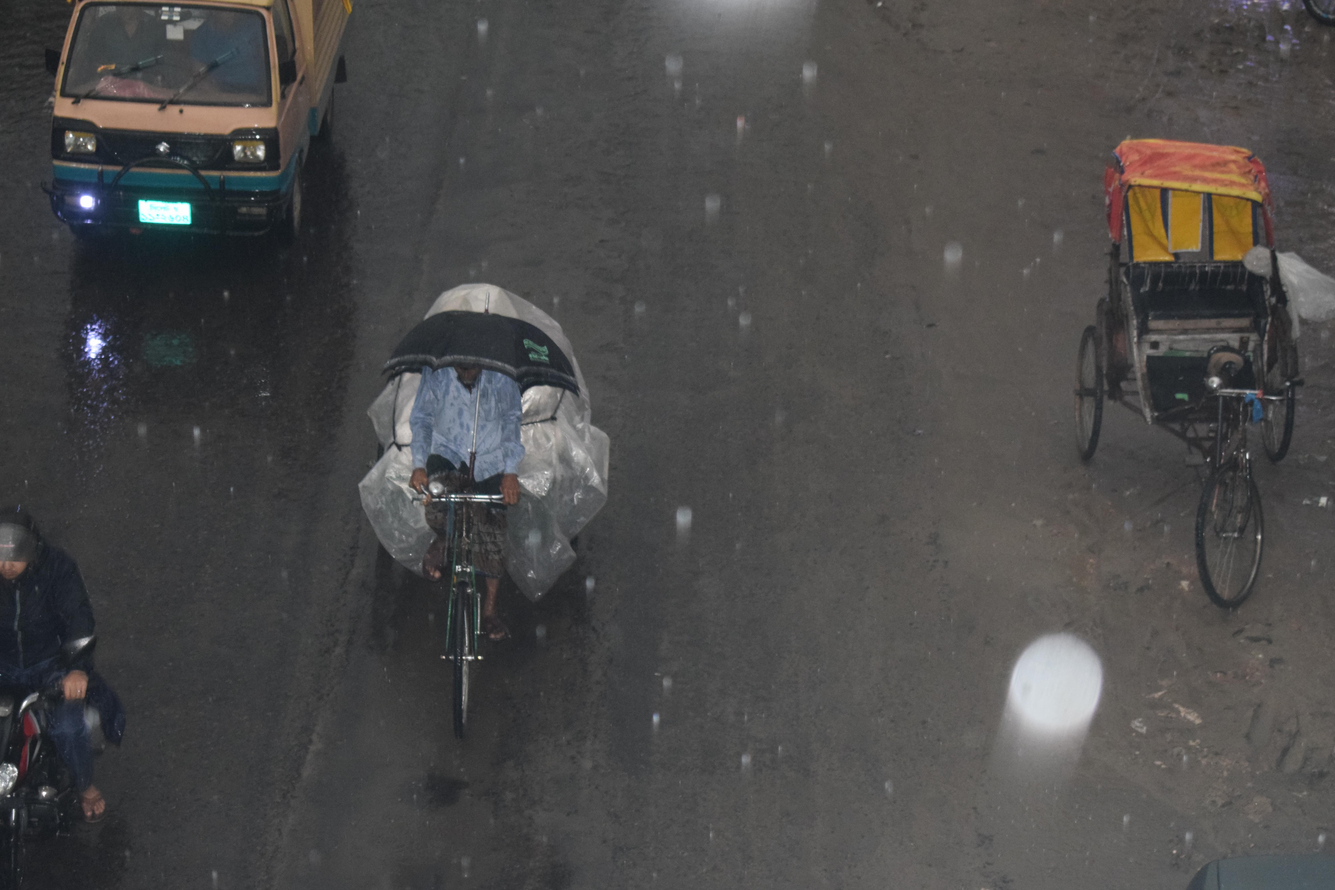Bike: (0, 466, 166, 875)
Car: (1001, 83, 1335, 697), (293, 242, 647, 765), (0, 0, 384, 302)
